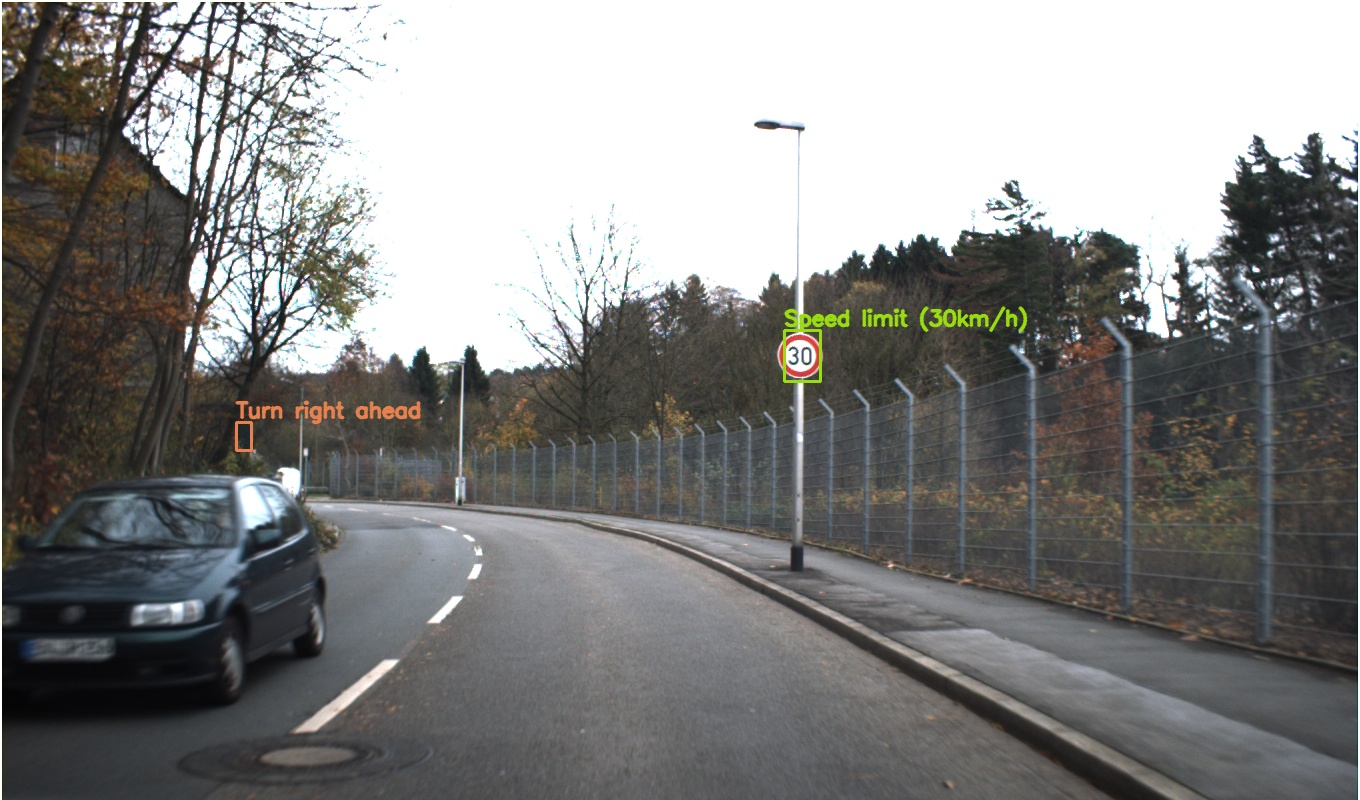Keep right: (325, 485, 358, 517)
